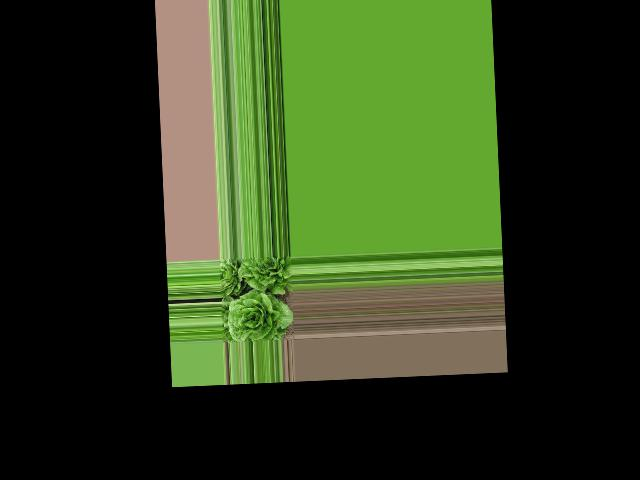lettuce: (237, 255, 290, 291)
